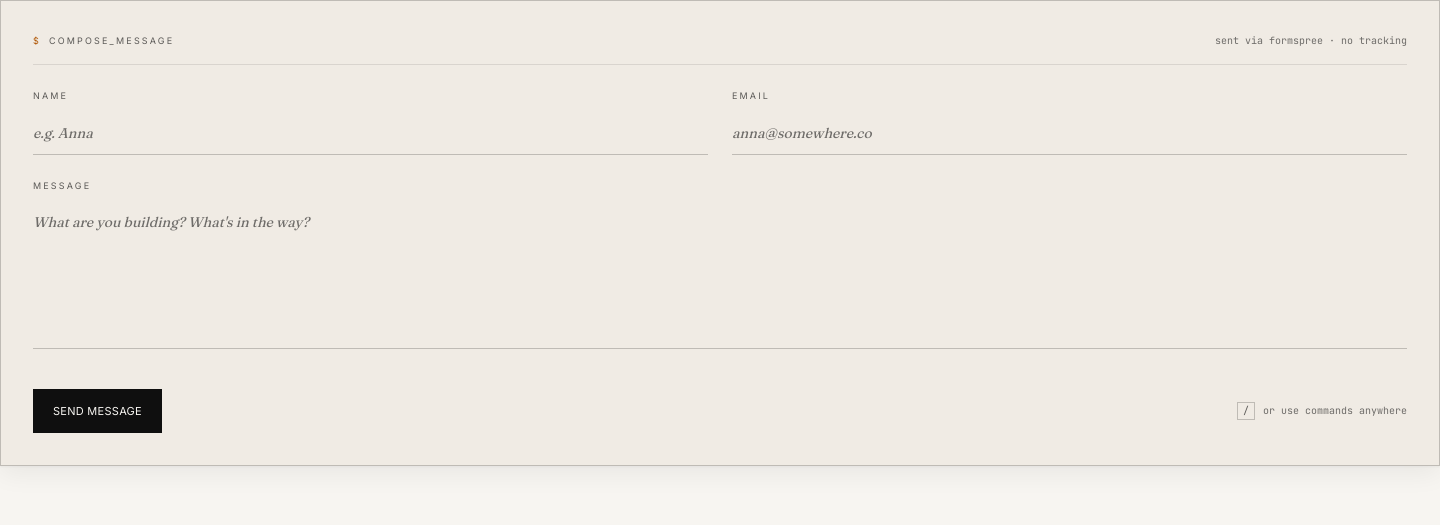
Test case: ContactForm › shows error message when server returns non-2xx
Type "Test" into the field labelled "Name" at point(370, 133), box [33,111,708,155]
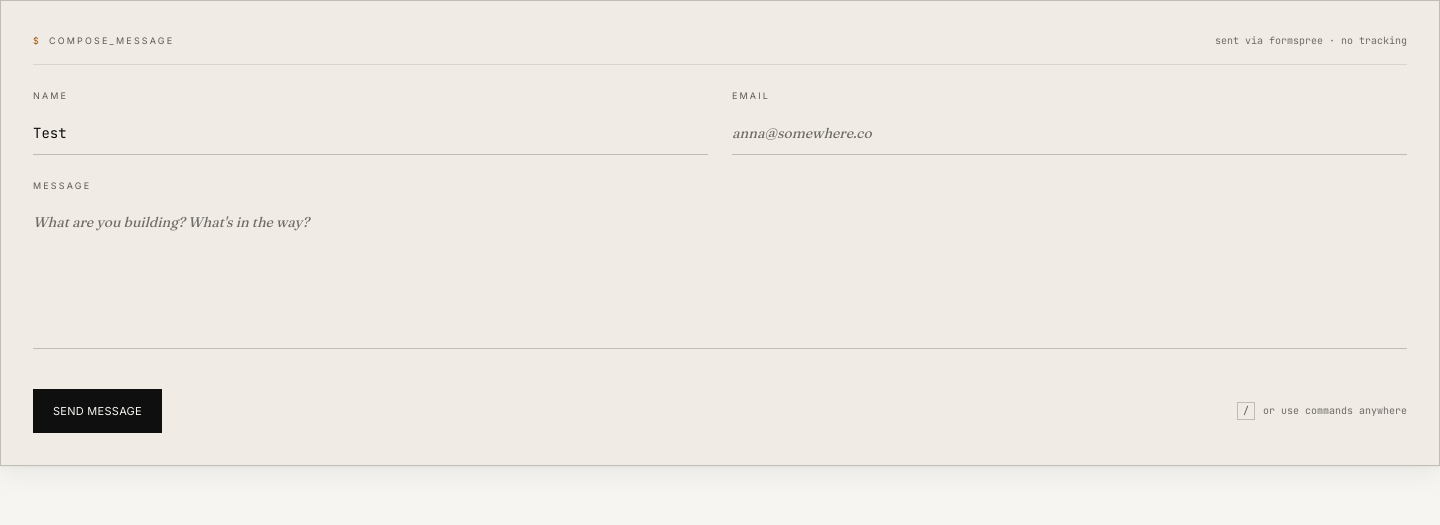
Type "t@x.com" into the field labelled "Email" at point(1070, 133), box [732,111,1407,155]
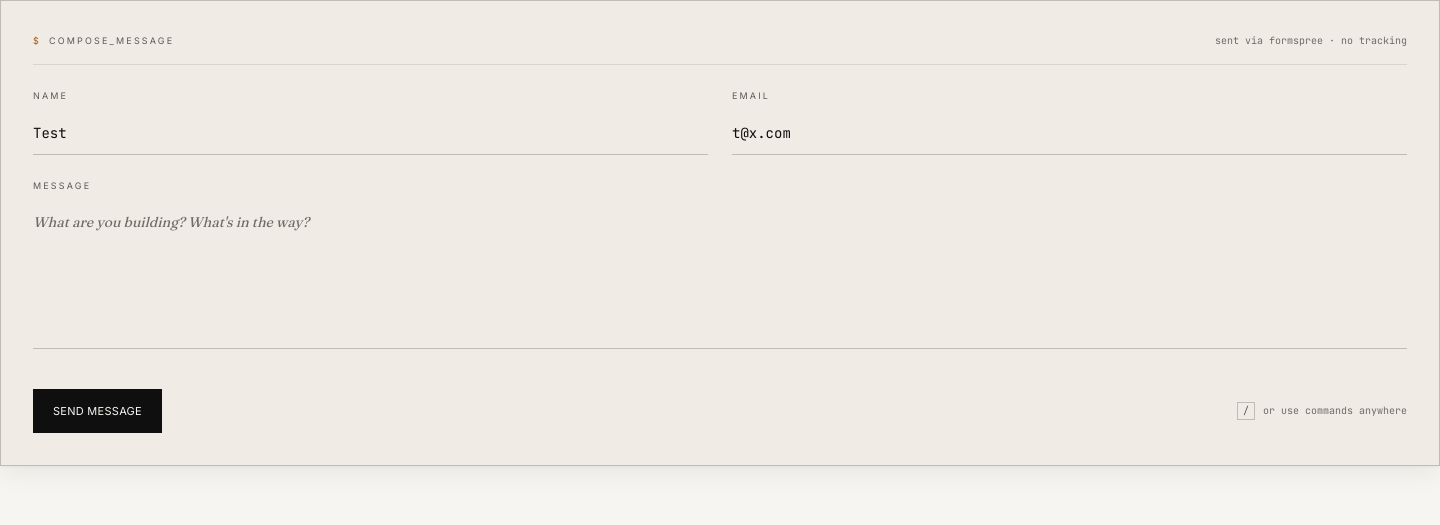
Type "hi" into the text box labelled "Message" at point(720, 276), box [33,202,1407,349]
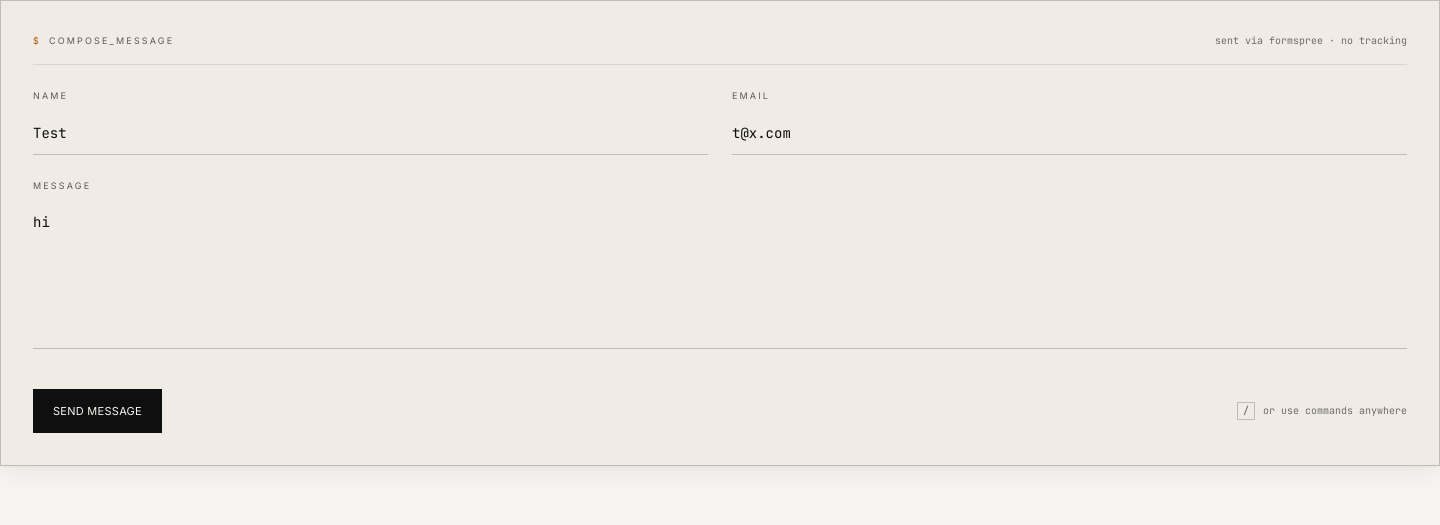
Click the button "Send message" at point(98, 411), box [33,389,162,433]
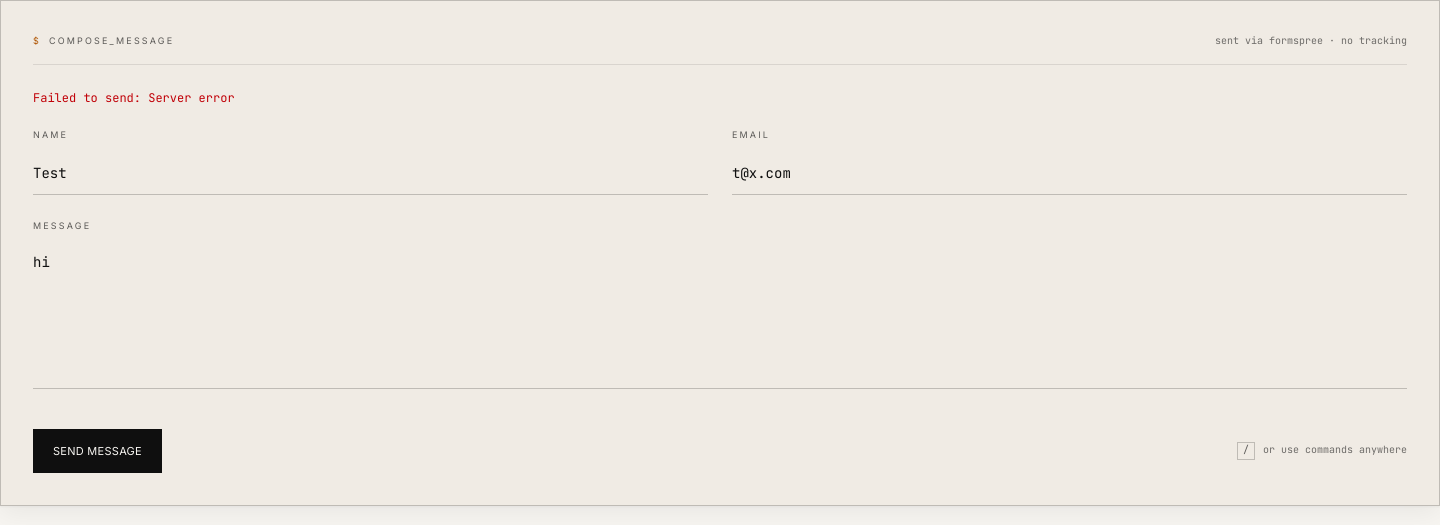
Check: the text "Failed to send: Server error" is shown, box [33,90,235,106]
